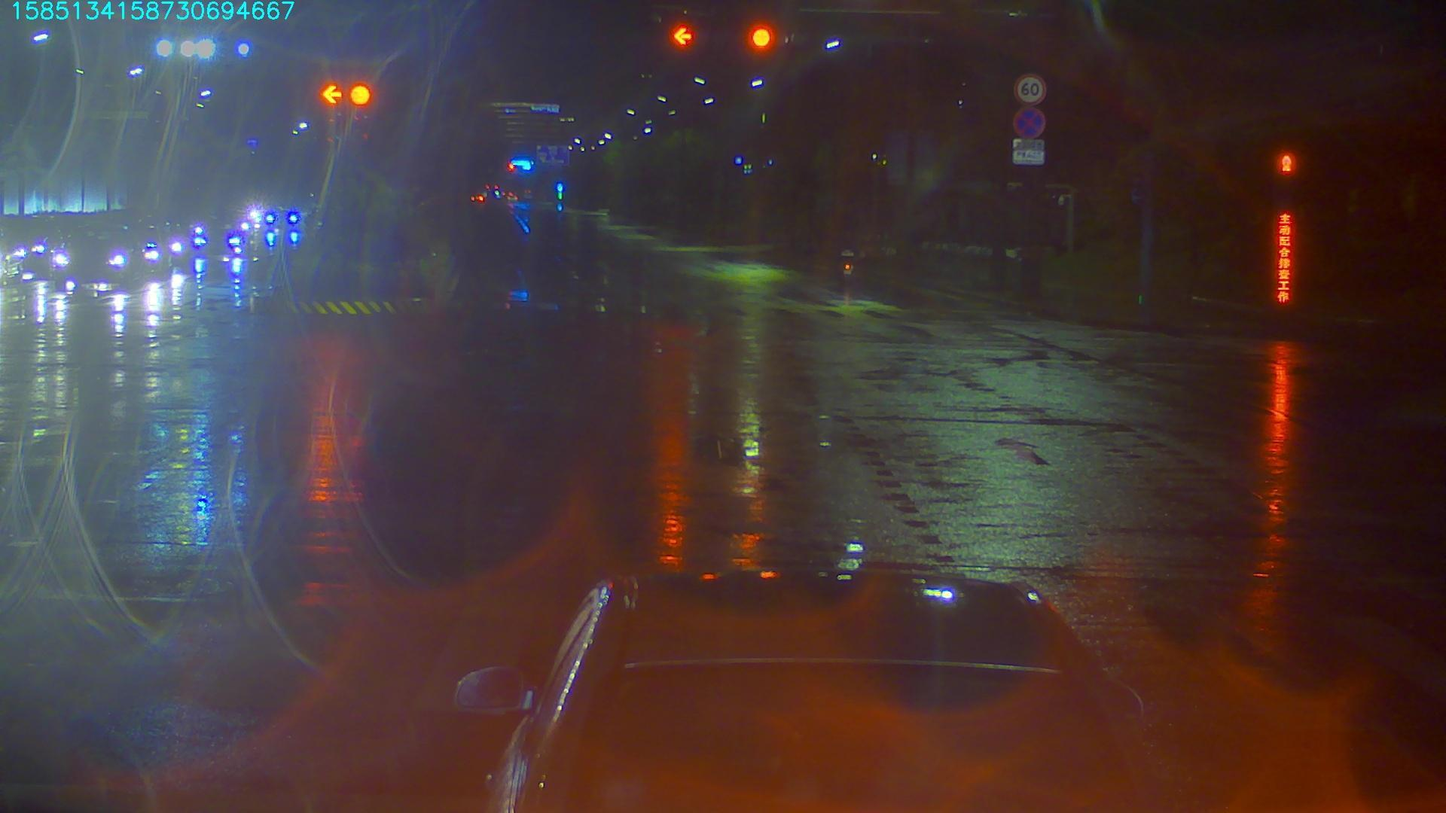red: (660, 24, 697, 56), (746, 17, 773, 56)
